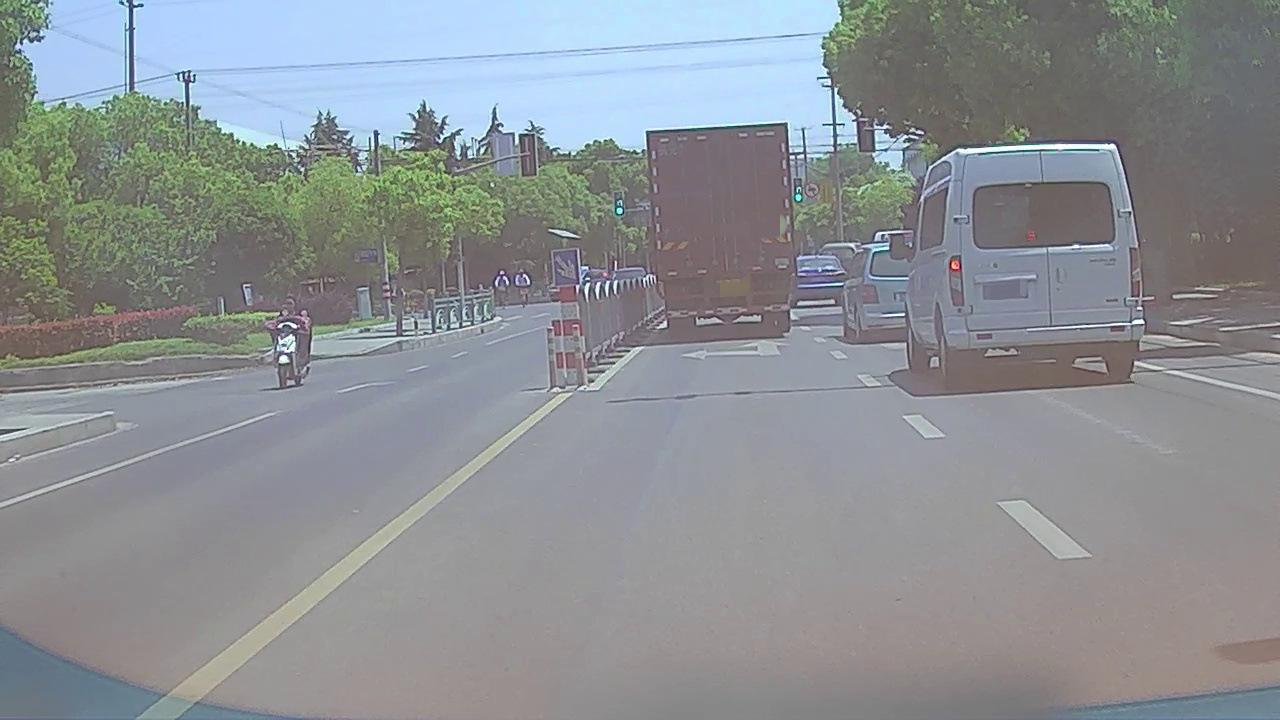traffic_light: (614, 192, 623, 216), (794, 177, 802, 202)
